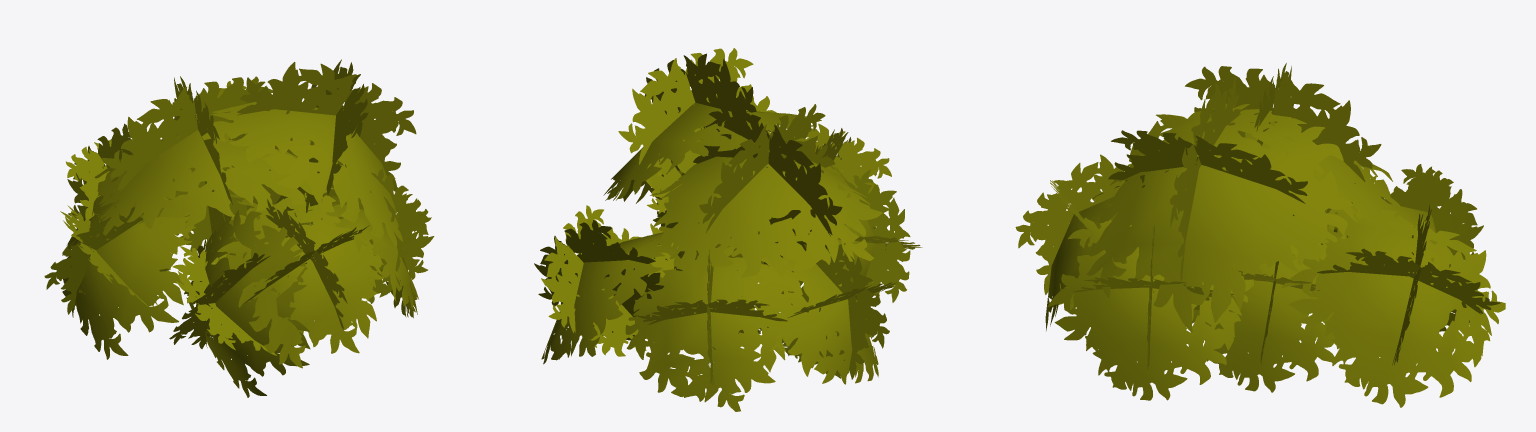
The model's file is treeTopDark.fbx.
3 renders of one model, left to right at view 1: azimuth 30°, elevation 25°; view 2: azimuth 150°, elevation 25°; view 3: azimuth 270°, elevation 25°, orthographic. The views are drawn at different scales.
Parts seen in each view (by area): view 1: treeTopDark; view 2: treeTopDark; view 3: treeTopDark.
Boxes of the visible parts, x1,y1,x2,y2 form: treeTopDark: [44, 59, 434, 397]; treeTopDark: [534, 48, 922, 411]; treeTopDark: [1015, 63, 1505, 407].
Size of the model in its own units: 663 by 578 by 748.
